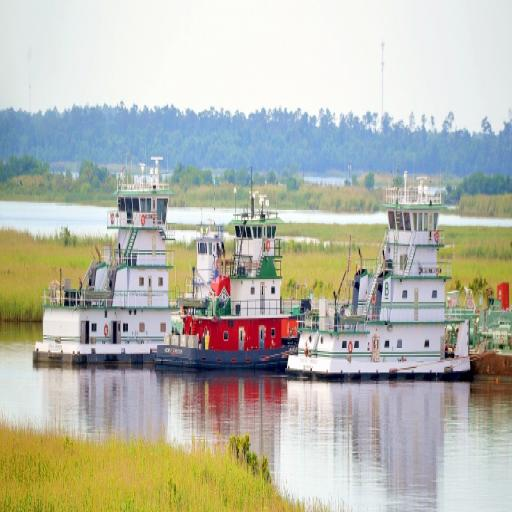tugboat: (284, 182, 476, 392), (152, 183, 314, 400), (31, 155, 186, 371)
